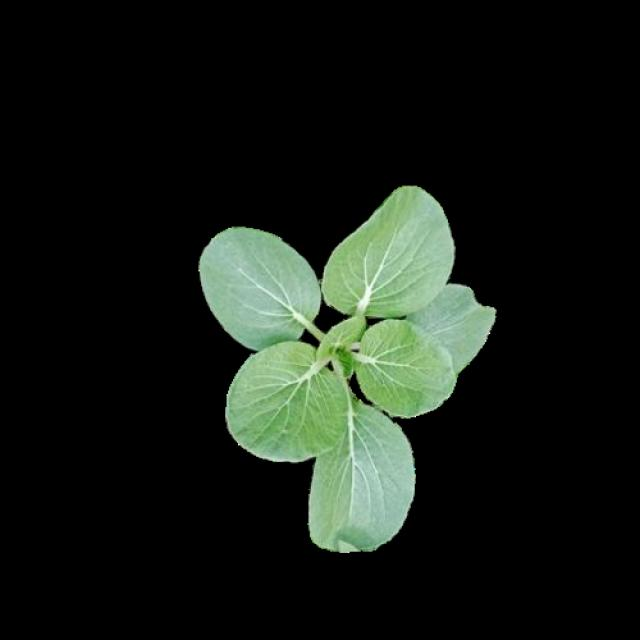healthy: (197, 182, 494, 548)
not-mature: (198, 184, 496, 550)
